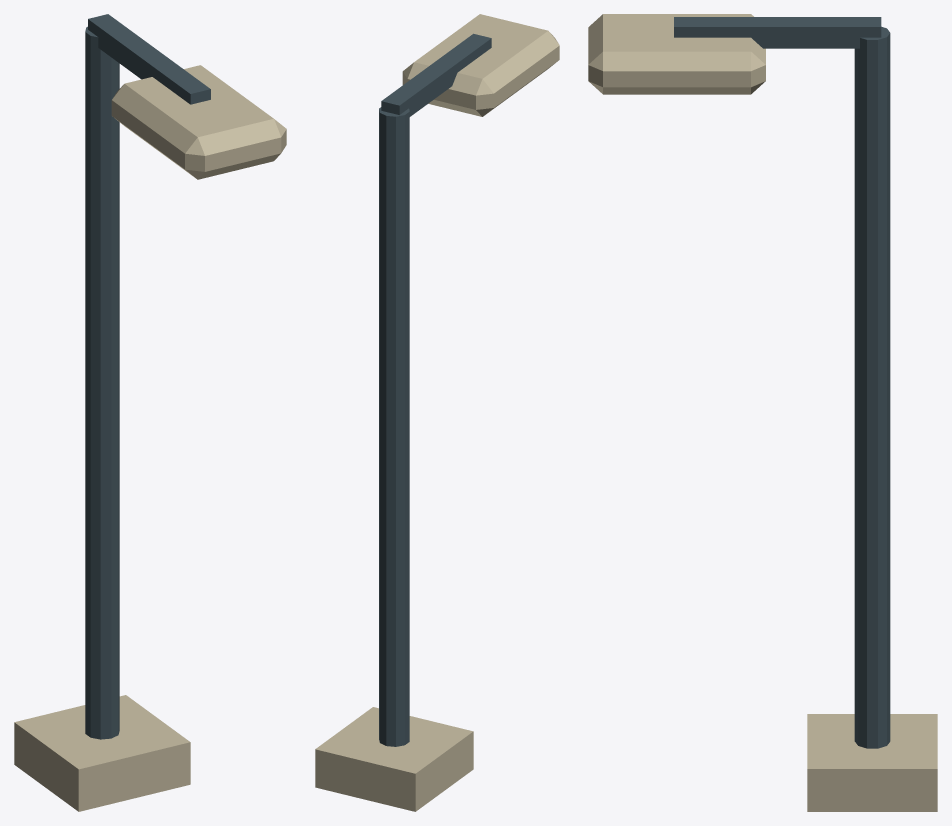
File: street_lamp.glb
The picture shows the model from 3 angles, left to right: view 1: azimuth 30°, elevation 25°; view 2: azimuth 150°, elevation 25°; view 3: azimuth 270°, elevation 25°; orthographic projection. The views are drawn at different scales.
Parts seen in each view (by area): view 1: street_lamp; view 2: street_lamp; view 3: street_lamp.
Part boxes in pixels (left/top/right/bottom): street_lamp: left=14, top=14, right=286, bottom=811; street_lamp: left=315, top=14, right=559, bottom=811; street_lamp: left=588, top=14, right=937, bottom=811.
Bounding box in the file's own units: 0.44 × 2.84 × 1.18.
